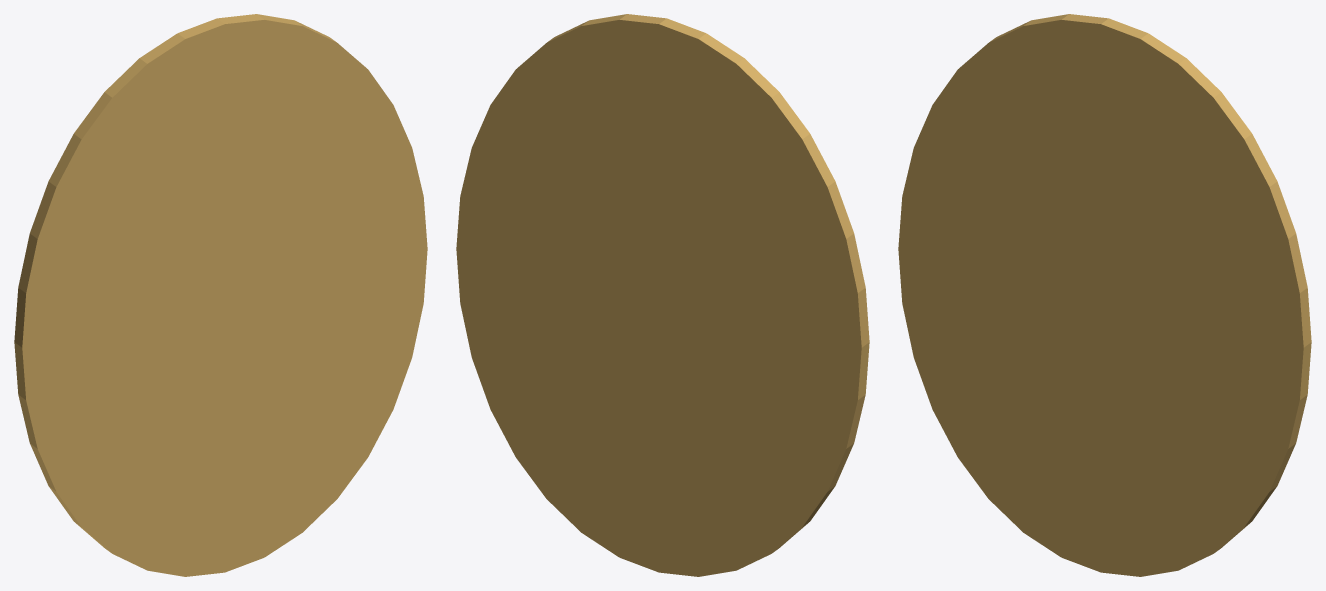
The model's file is coin (1).fbx.
The picture shows the model from 3 angles, left to right: view 1: azimuth 30°, elevation 25°; view 2: azimuth 150°, elevation 25°; view 3: azimuth 330°, elevation 25°; orthographic projection.
Visible parts, largest first — view 1: Cylinder; view 2: Cylinder; view 3: Cylinder.
Boxes of the visible parts, bbox=[...] form: Cylinder: bbox=[14, 14, 427, 576]; Cylinder: bbox=[456, 14, 869, 576]; Cylinder: bbox=[898, 14, 1311, 576].
Bounding box in the file's own units: 200 × 259 × 6.78.
